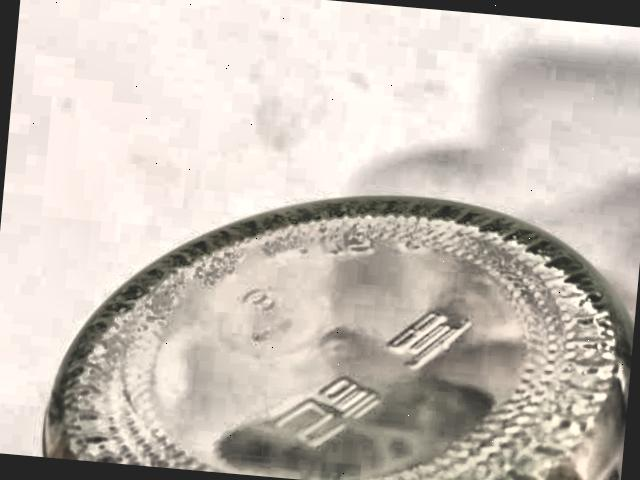Almennt: (37, 156, 640, 480)
